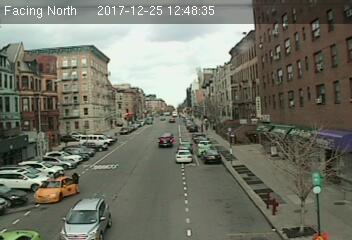car: (59, 198, 114, 240), (33, 170, 78, 202), (176, 149, 195, 165), (202, 149, 220, 163), (157, 134, 173, 147)
